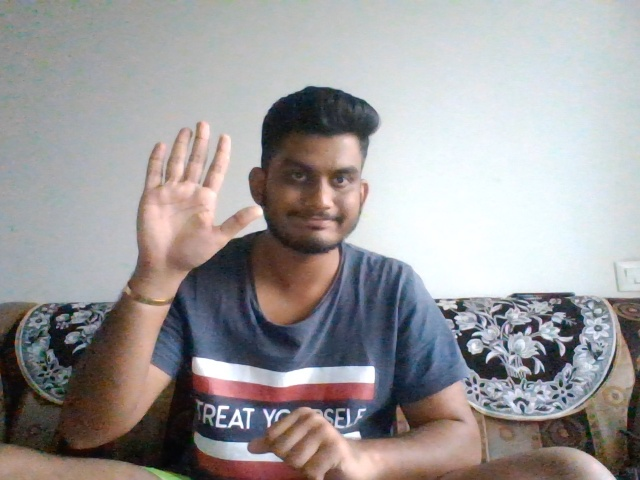Hello: (104, 120, 264, 268)
